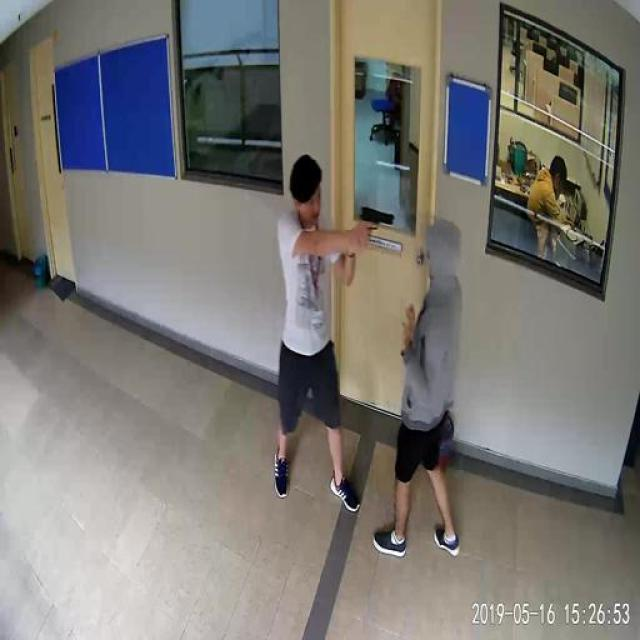Gun: (350, 196, 398, 236)
